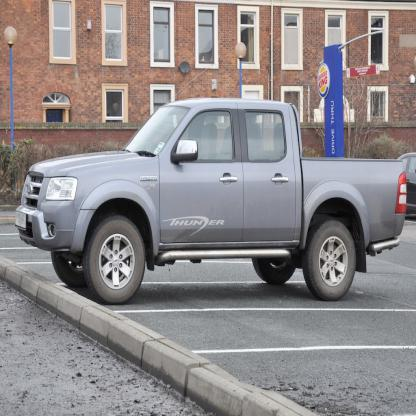Truck: (15, 62, 407, 305)
